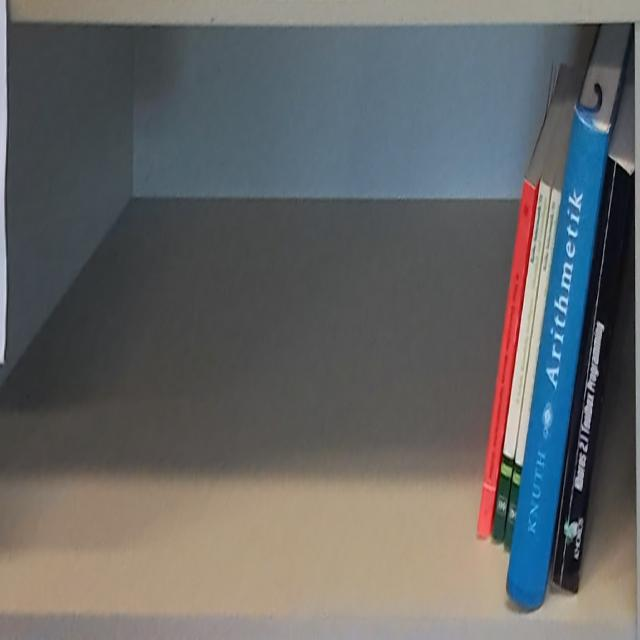Book Spine: (504, 103, 611, 610), (550, 159, 634, 600), (490, 179, 552, 547), (503, 190, 564, 554), (477, 180, 537, 536)
